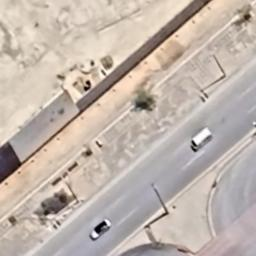others: (189, 124, 215, 152)
sedan: (86, 216, 114, 242)
